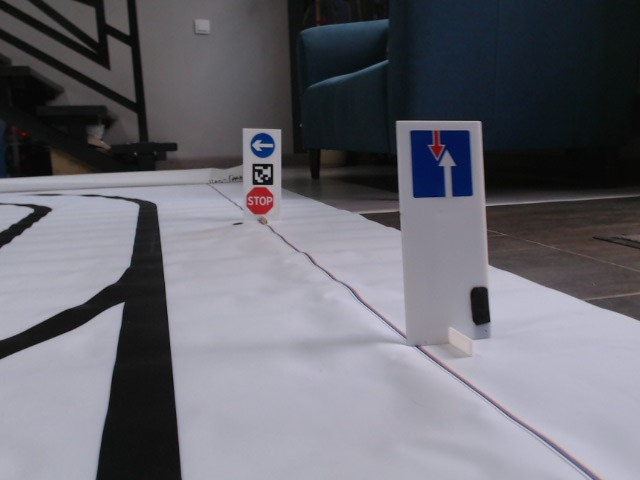Stop: (246, 185, 275, 217)
priority_movement: (411, 130, 473, 198)
